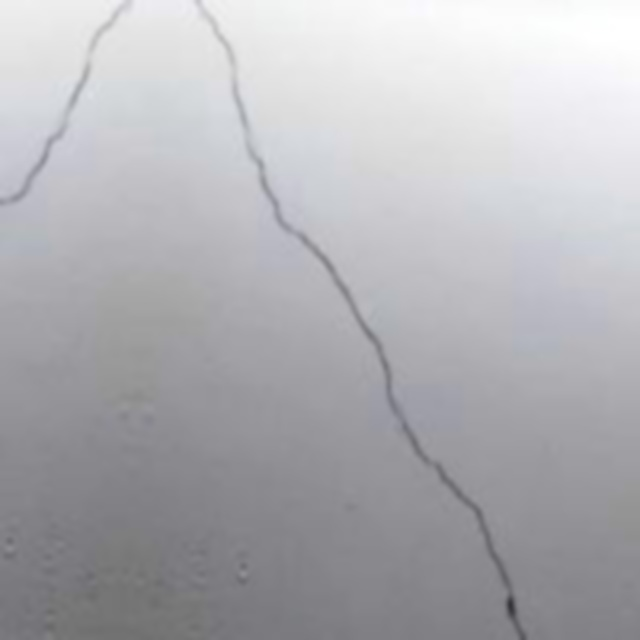SurfaceCrack: (184, 0, 546, 640)
